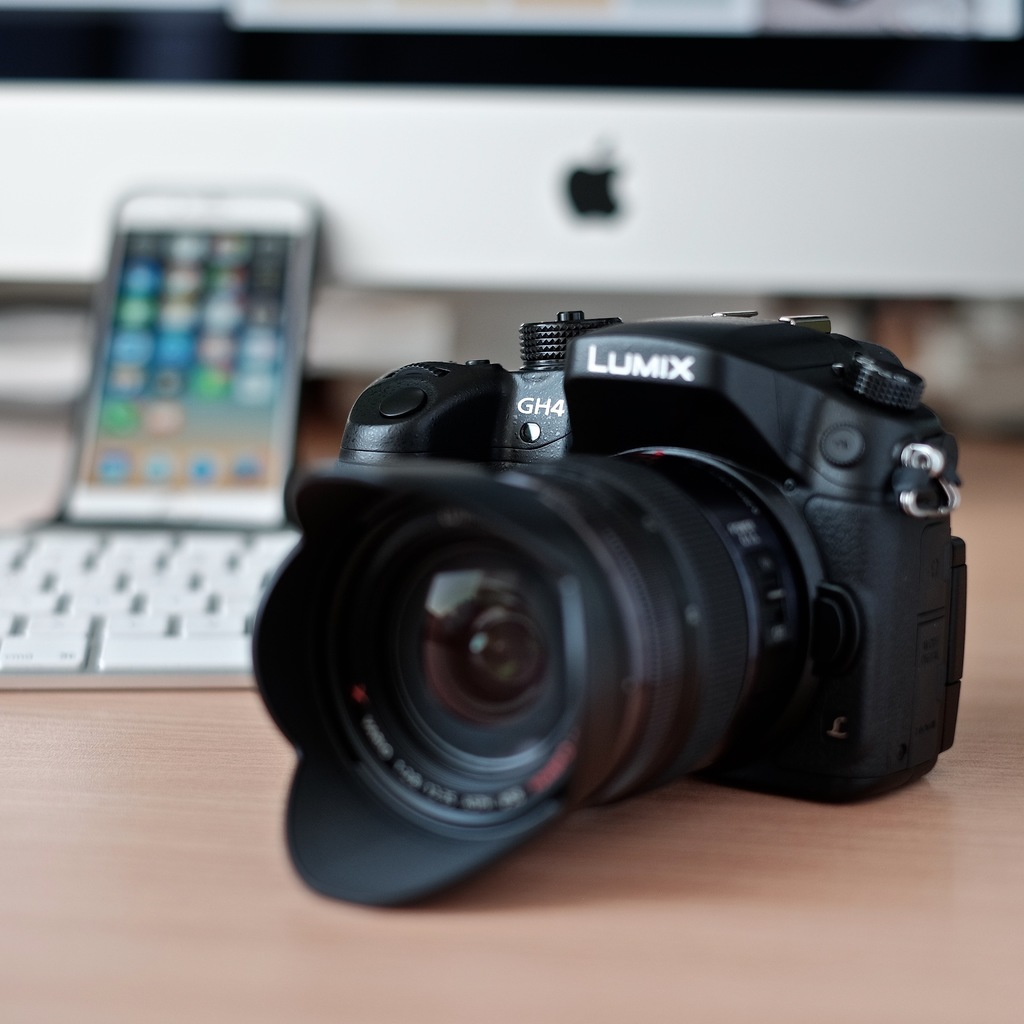Mobile-phone: (66, 186, 319, 522)
